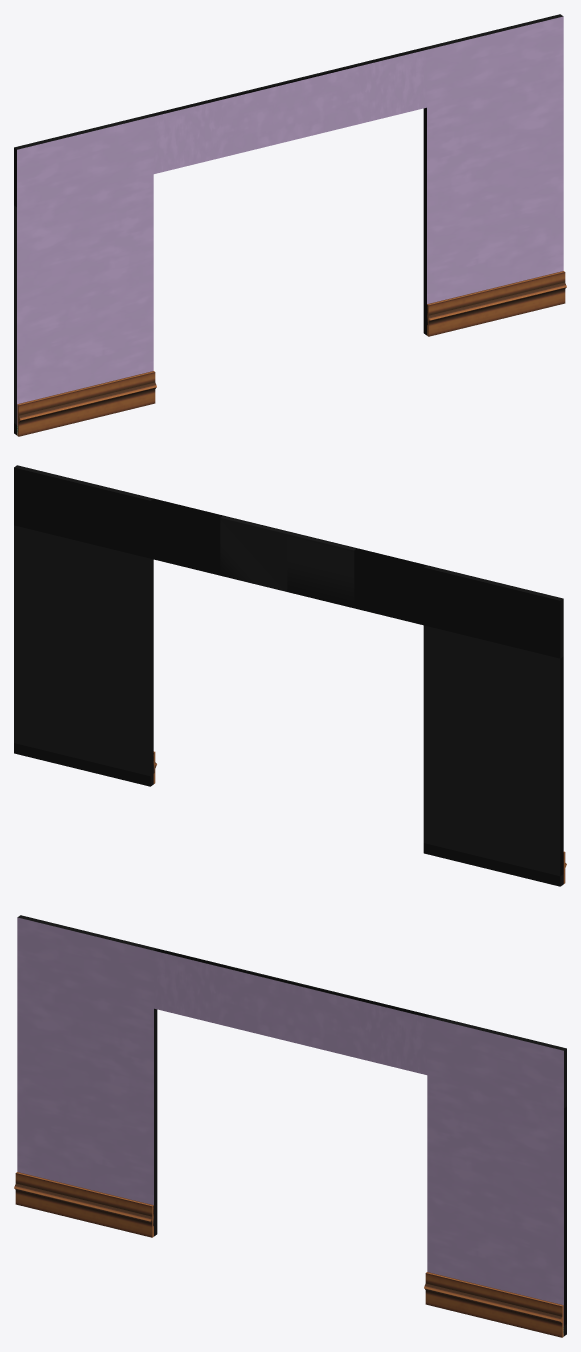
The model's file is Doorway_DW_B.FBX.
3 renders of one model, top to bottom at view 1: azimuth 30°, elevation 25°; view 2: azimuth 150°, elevation 25°; view 3: azimuth 330°, elevation 25°, orthographic.
Visible parts, largest first — view 1: Wall_Doorway_10m; view 2: Wall_Doorway_10m; view 3: Wall_Doorway_10m.
Boxes of the visible parts, bbox=[...] form: Wall_Doorway_10m: bbox=[14, 14, 566, 436]; Wall_Doorway_10m: bbox=[14, 465, 566, 886]; Wall_Doorway_10m: bbox=[14, 915, 566, 1337].
Bounding box in the file's own units: 1000 × 500 × 20.82.
